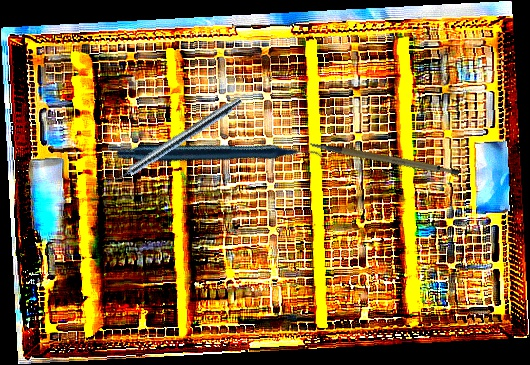Handpiece: (113, 54, 330, 260), (103, 92, 244, 192)
Scalpel Handle: (309, 119, 461, 195)
